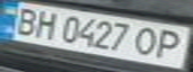0: (54, 14, 84, 45)
2: (93, 17, 115, 52)
4: (75, 16, 100, 48)
7: (109, 20, 136, 53)
B: (6, 4, 42, 36)
H: (30, 8, 63, 41)
O: (130, 25, 163, 57)
P: (151, 27, 190, 61)
